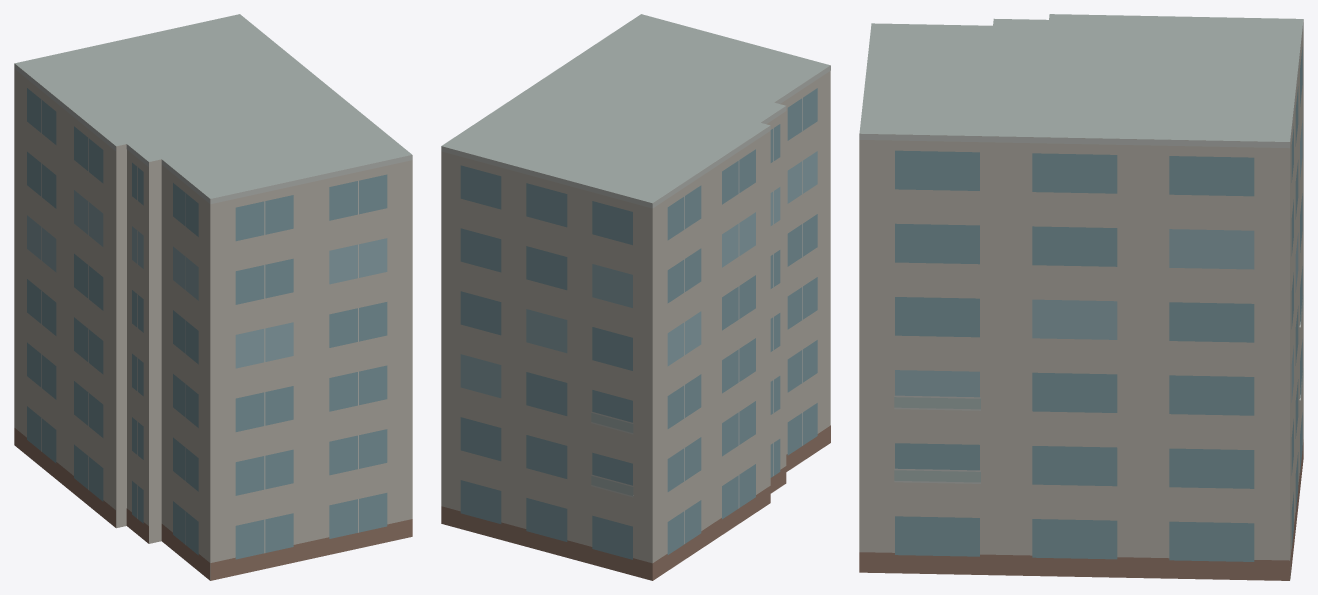
File: survey-upis-33002373.glb
The picture shows the model from 3 angles, left to right: view 1: azimuth 30°, elevation 25°; view 2: azimuth 150°, elevation 25°; view 3: azimuth 270°, elevation 25°; orthographic projection. The views are drawn at different scales.
Visible parts, largest first — view 1: survey-upis-33002373.tmp; view 2: survey-upis-33002373.tmp; view 3: survey-upis-33002373.tmp.
Part boxes in pixels (bbox=[...]): survey-upis-33002373.tmp: bbox=[14, 14, 412, 580]; survey-upis-33002373.tmp: bbox=[441, 14, 830, 580]; survey-upis-33002373.tmp: bbox=[859, 14, 1303, 580].
Size of the model in its own units: 11 by 17.55 by 16.11.
